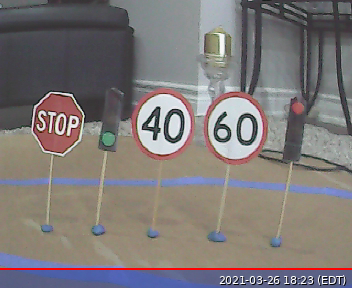Green Traffic Light: (97, 85, 124, 152)
Red Traffic Light: (279, 96, 307, 163)
Speed Limit 40: (132, 87, 194, 161)
Speed Limit 60: (203, 91, 268, 166)
Stop Sign: (30, 91, 86, 156)
